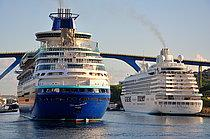Ship: (15, 3, 114, 126), (117, 43, 209, 119)
